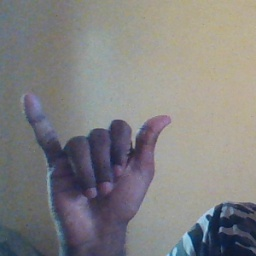J: (18, 90, 172, 229)
